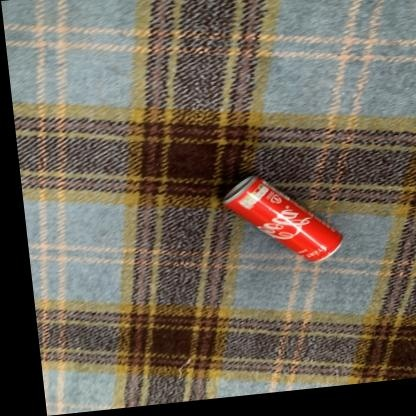trash: (224, 176, 341, 261)
